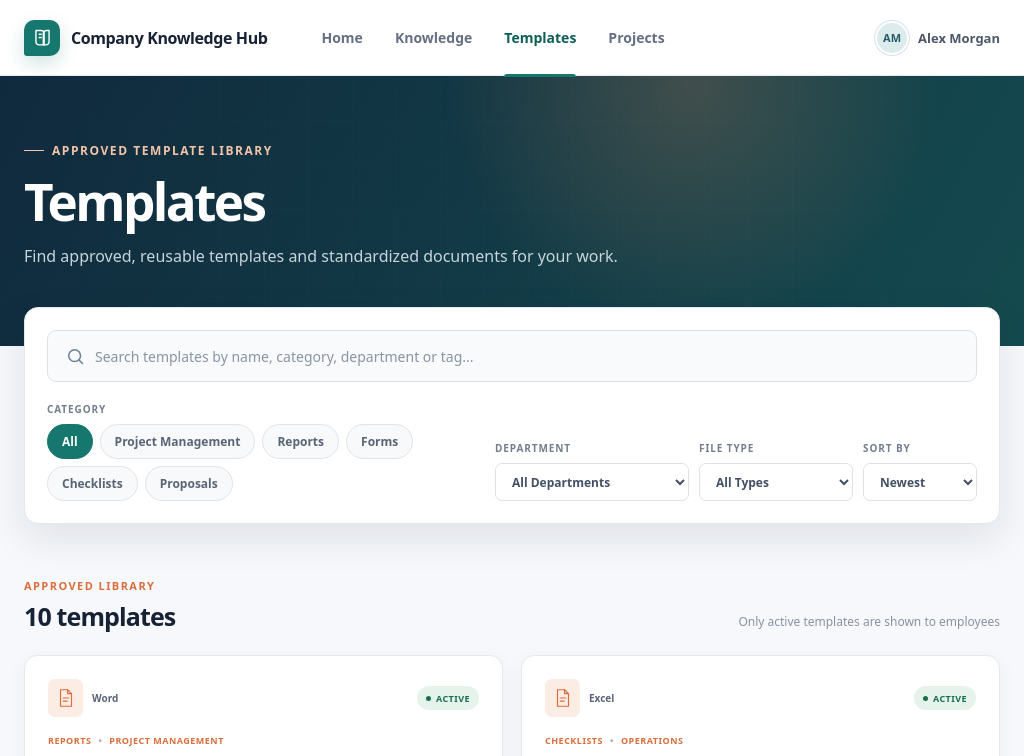
it: TemplatesPage › filters by file type
The image size is (1024, 756).
Select "PDF" in the dropdown labelled "File type" at (776, 482), box [699,463,853,501]
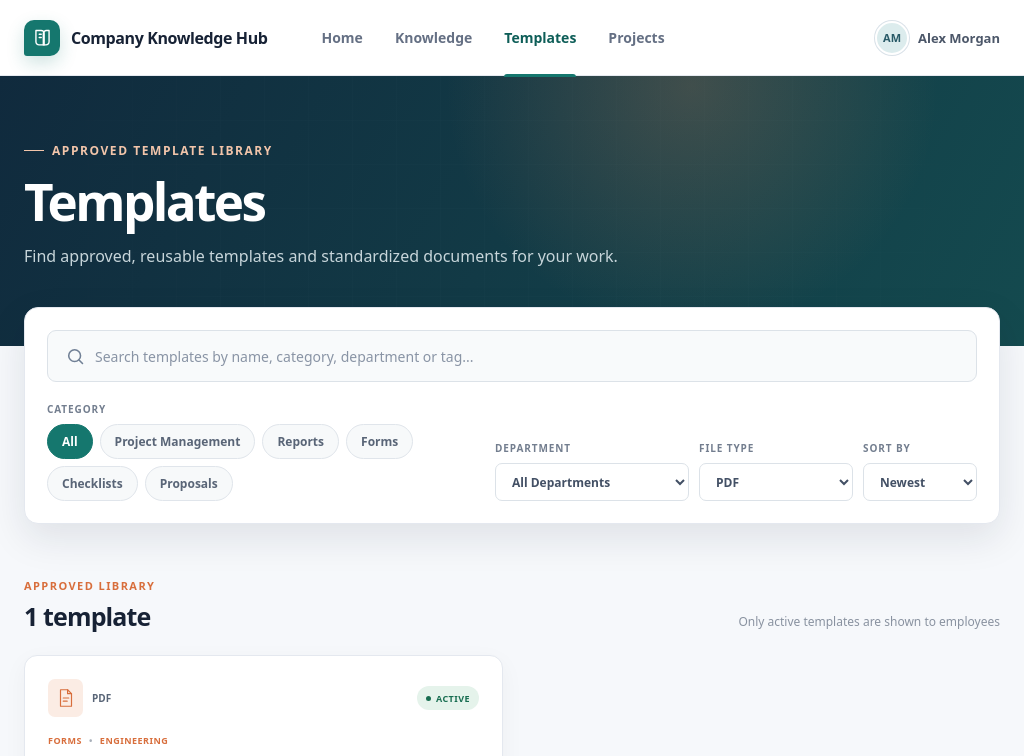
Now the heading "1 template" is shown, box [24,599,155,633]
